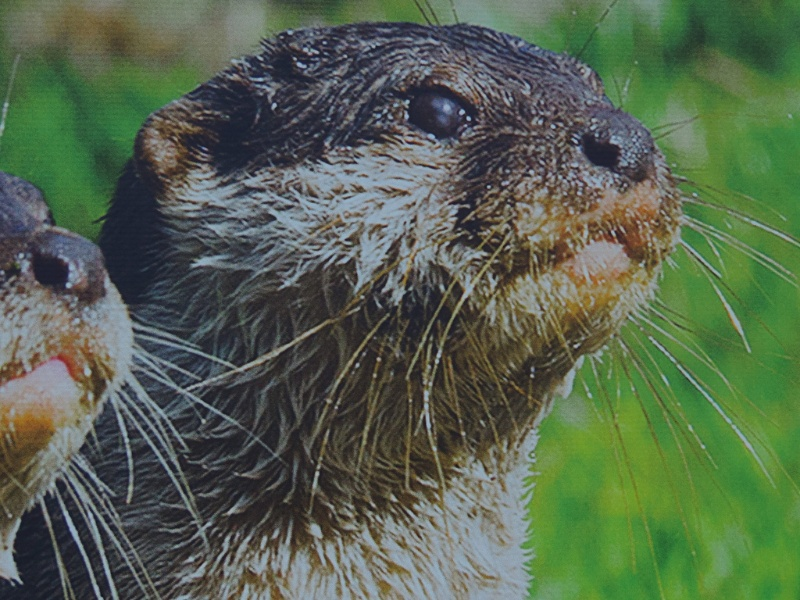minkish: (79, 14, 683, 600)
